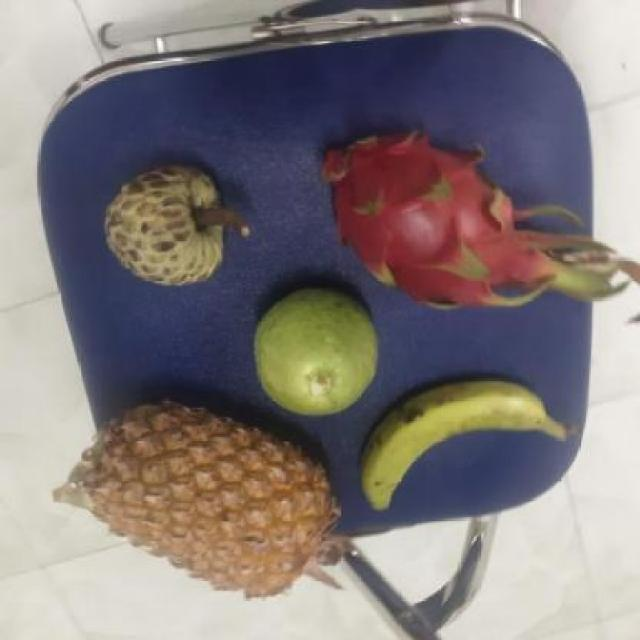banana: (346, 378, 548, 514)
dragon fruit: (310, 131, 524, 311)
guava: (247, 284, 381, 414)
pineapple: (75, 397, 337, 592)
sugar apple: (96, 165, 233, 284)
